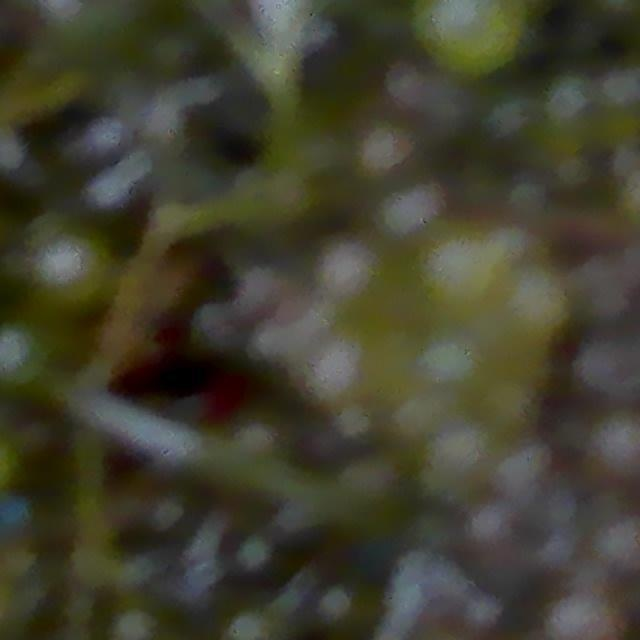SeaGrape: (412, 0, 520, 80), (544, 590, 619, 640), (590, 412, 640, 476), (314, 571, 358, 640), (596, 509, 640, 575), (235, 510, 274, 584)
